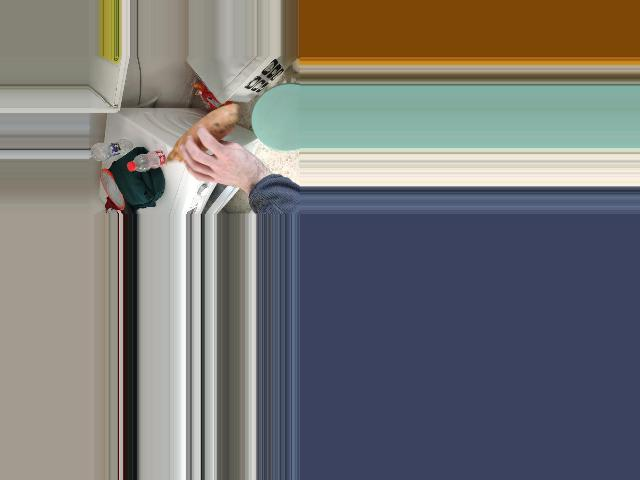sweet_potato: (169, 106, 229, 178)
